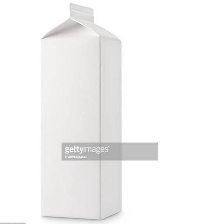carton: (35, 2, 131, 221)
